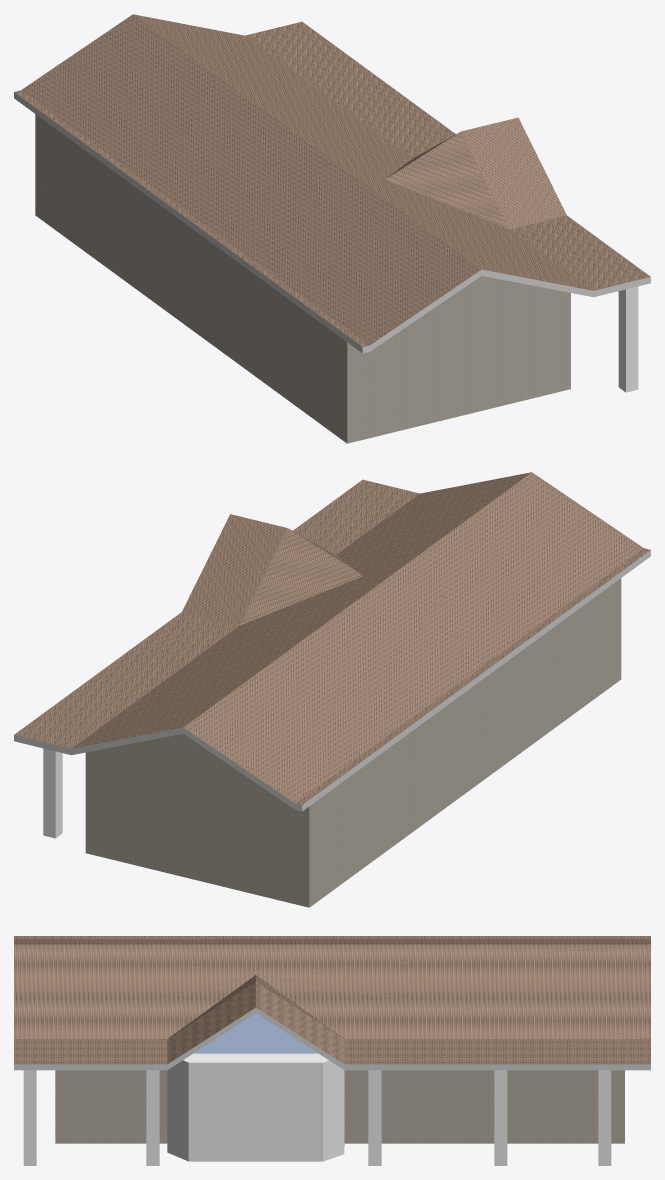
Rendered from clubhouse.fbx.
3 renders of one model, top to bottom at view 1: azimuth 30°, elevation 25°; view 2: azimuth 150°, elevation 25°; view 3: azimuth 270°, elevation 25°, orthographic. The views are drawn at different scales.
Visible parts, largest first — view 1: Model; view 2: Model; view 3: Model.
Part boxes in pixels (x1,y1,x2,y2): Model: (14,14,650,443); Model: (14,472,650,907); Model: (14,936,650,1165).
Size of the model in its own units: 20262 by 11904 by 42464.
